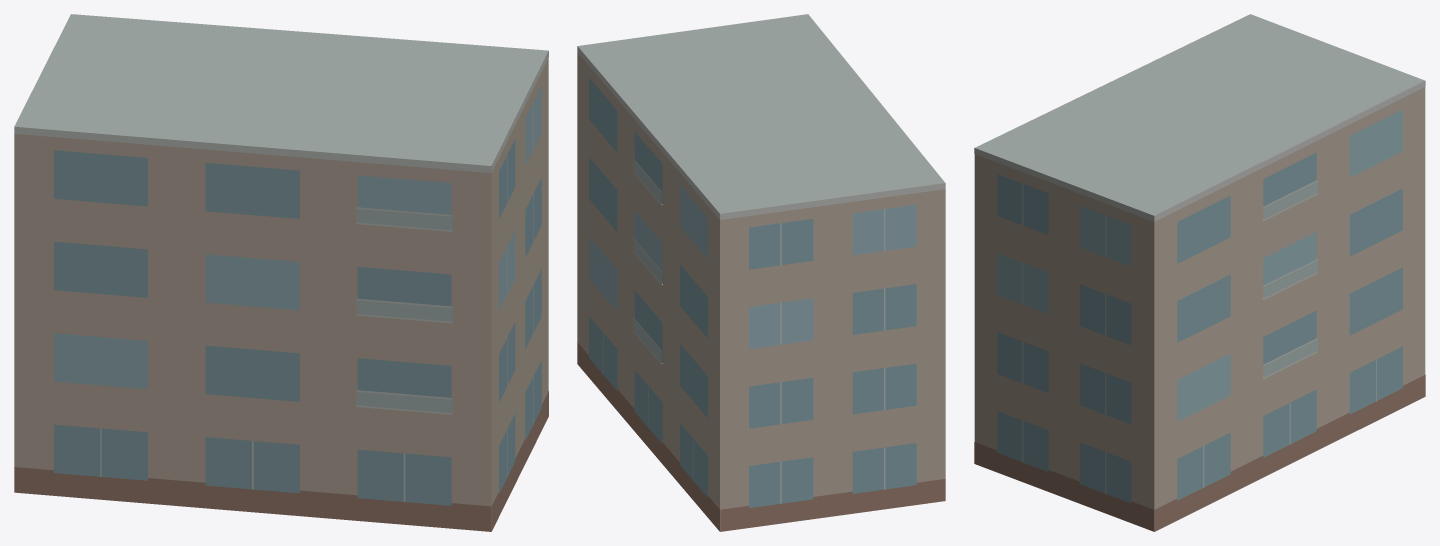
Rendered from survey-upis-32893618.glb.
3 renders of one model, left to right at view 1: azimuth 30°, elevation 25°; view 2: azimuth 150°, elevation 25°; view 3: azimuth 270°, elevation 25°, orthographic. The views are drawn at different scales.
Parts seen in each view (by area): view 1: survey-upis-32893618.tmp; view 2: survey-upis-32893618.tmp; view 3: survey-upis-32893618.tmp.
Boxes of the visible parts, box(x1,y1,x2,y2) form: survey-upis-32893618.tmp: box(14, 14, 548, 531); survey-upis-32893618.tmp: box(577, 14, 945, 531); survey-upis-32893618.tmp: box(974, 14, 1425, 531).
Bounding box in the file's own units: 17.41 × 12.7 × 16.43.
